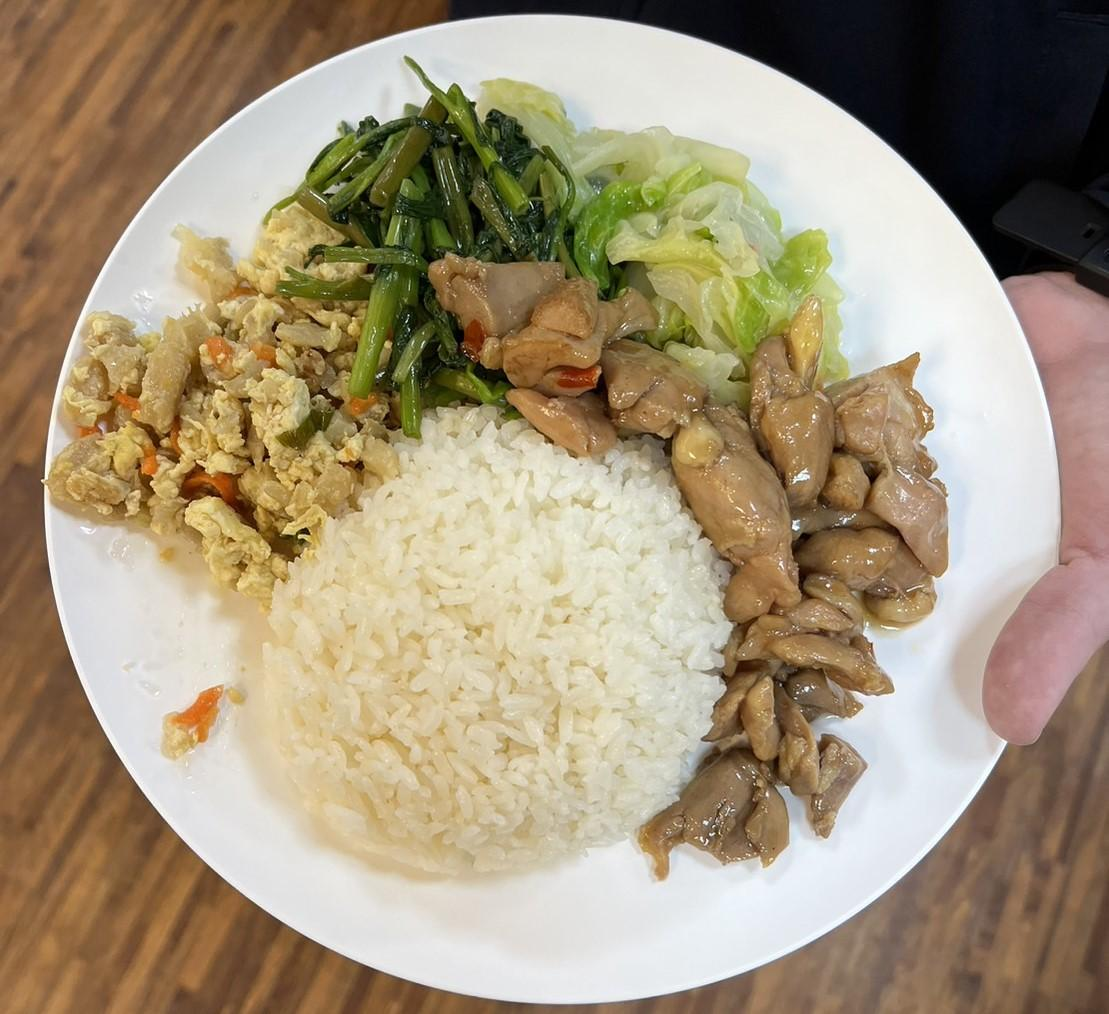big fried chicken leg: (45, 10, 1064, 1014)
big herbal chicken leg: (250, 399, 724, 886)
braised fish fillet: (74, 205, 405, 594), (503, 80, 852, 394), (310, 83, 570, 406)
braised pork: (430, 231, 952, 874)
